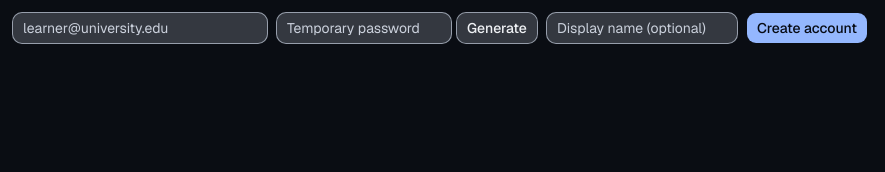
CreateAccountForm › rejects submission without a valid email
Type "not-an-email" into the field named "Account email".
click(140, 28); type("not-an-email")  # box [12,12,268,44]
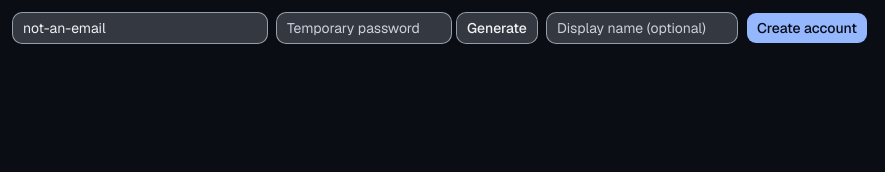
Type "longenough1" into the field labelled "Temporary password".
click(364, 28); type("longenough1")  # box [276,12,452,44]
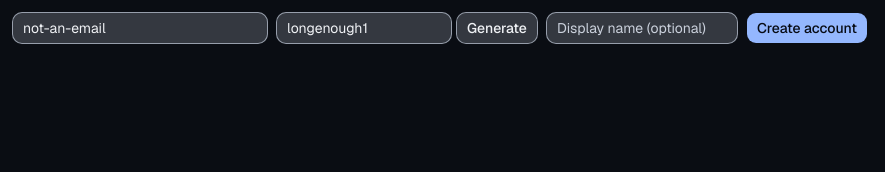
Click the button "Create account".
click(807, 28)  # box [746,12,868,44]
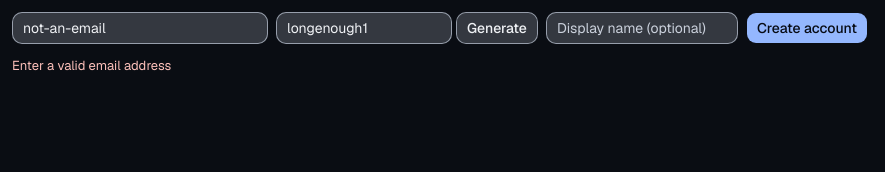
Result: the text "Enter a valid email address" is shown at [12,57,171,74]
